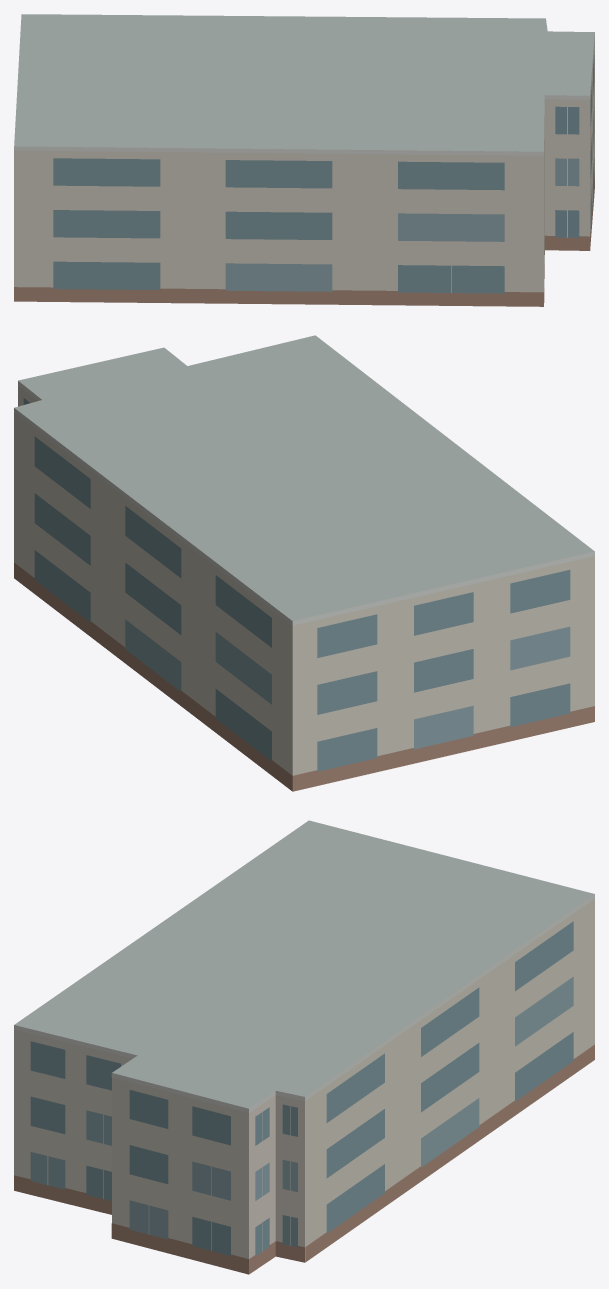
File: survey-upis-32776482.glb
3 views of the same model, one above another, from view 1: azimuth 30°, elevation 25°; view 2: azimuth 150°, elevation 25°; view 3: azimuth 270°, elevation 25° (orthographic). The views are drawn at different scales.
Visible parts, largest first — view 1: survey-upis-32776482.tmp; view 2: survey-upis-32776482.tmp; view 3: survey-upis-32776482.tmp.
Part boxes in pixels (left/top/right/bottom): survey-upis-32776482.tmp: left=14, top=14, right=594, bottom=306; survey-upis-32776482.tmp: left=14, top=335, right=594, bottom=791; survey-upis-32776482.tmp: left=14, top=820, right=594, bottom=1274.
Size of the model in its own units: 34.14 by 9.15 by 29.06.
